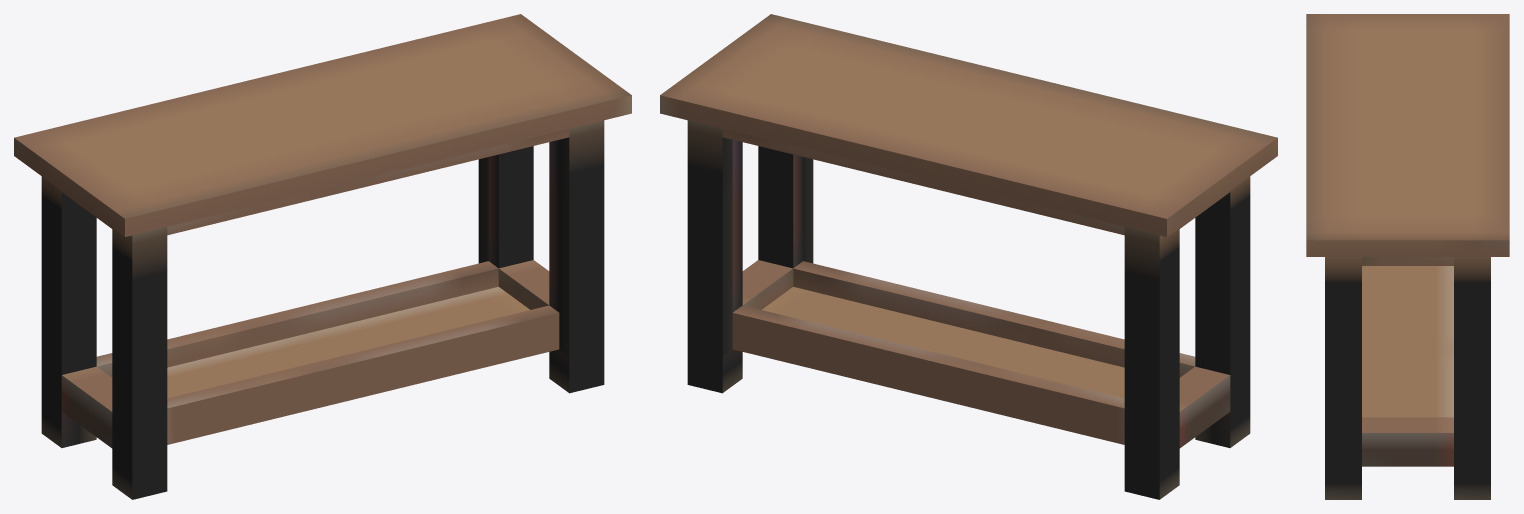
File: TableBrownTall_01.fbx
3 renders of one model, left to right at view 1: azimuth 30°, elevation 25°; view 2: azimuth 150°, elevation 25°; view 3: azimuth 270°, elevation 25°, orthographic. The views are drawn at different scales.
Visible parts, largest first — view 1: TableBrownTall_01; view 2: TableBrownTall_01; view 3: TableBrownTall_01.
Boxes of the visible parts, <box> form: TableBrownTall_01: <box>14,14,631,499</box>; TableBrownTall_01: <box>660,14,1277,499</box>; TableBrownTall_01: <box>1306,14,1509,499</box>.
Size of the model in its own units: 145 by 55 by 80.
Materials: 1 (1 with a texture image).
